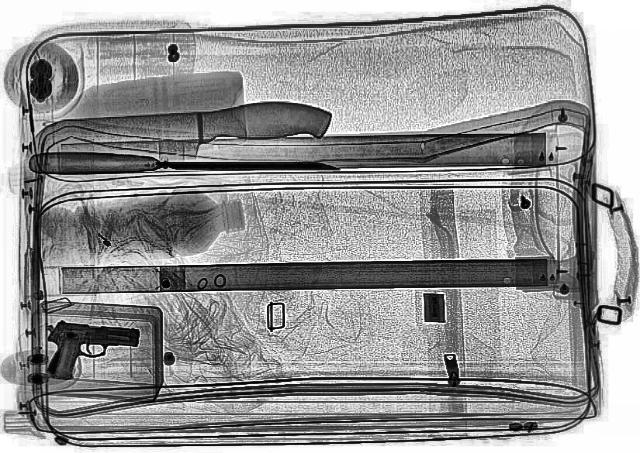Gun: (38, 321, 142, 385)
Knife: (26, 98, 334, 166), (28, 150, 336, 178)
